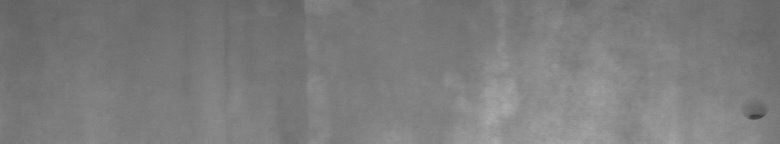fi: (744, 108, 768, 128)
